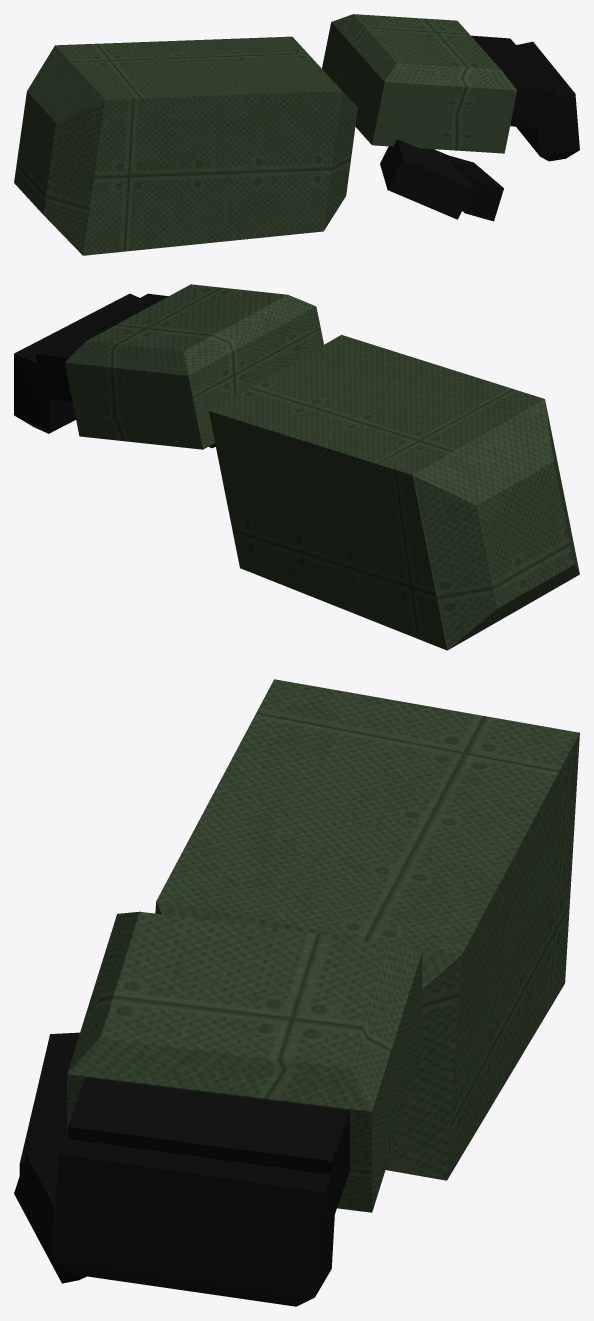
Rendered from antebrazo_izq.obj.
3 renders of one model, top to bottom at view 1: azimuth 30°, elevation 25°; view 2: azimuth 150°, elevation 25°; view 3: azimuth 270°, elevation 25°, orthographic. The views are drawn at different scales.
Parts seen in each view (by area): view 1: antebrazo_izq; view 2: antebrazo_izq; view 3: antebrazo_izq.
Part boxes in pixels (left/top/right/bottom): antebrazo_izq: left=14, top=14, right=579, bottom=255; antebrazo_izq: left=14, top=284, right=579, bottom=650; antebrazo_izq: left=14, top=679, right=579, bottom=1306.
Bounding box in the file's own units: 4.85 × 1.56 × 2.61.
2 materials, 1 textured.
